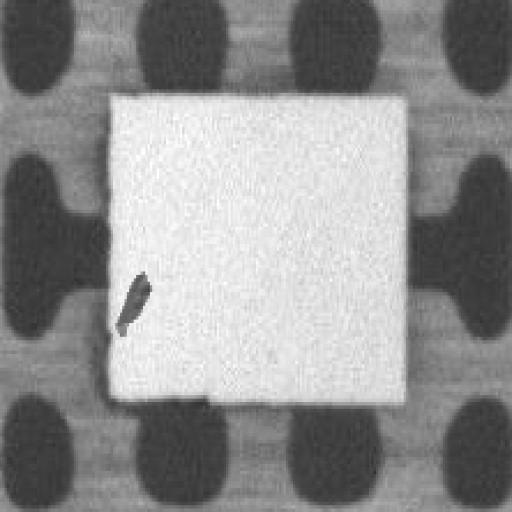DIE_INK: (161, 178, 227, 226)
